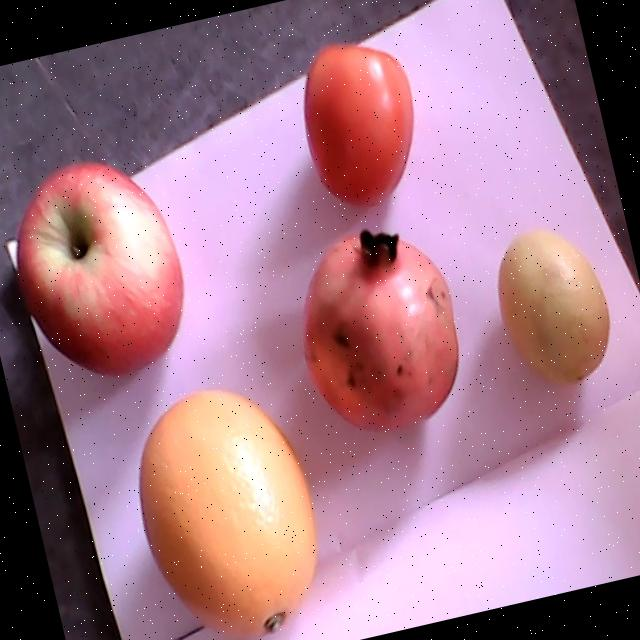apple: (15, 160, 181, 375)
lemon: (498, 229, 610, 383)
orange: (140, 389, 317, 638)
pomegranate: (303, 228, 459, 431)
tomato: (303, 45, 413, 207)
